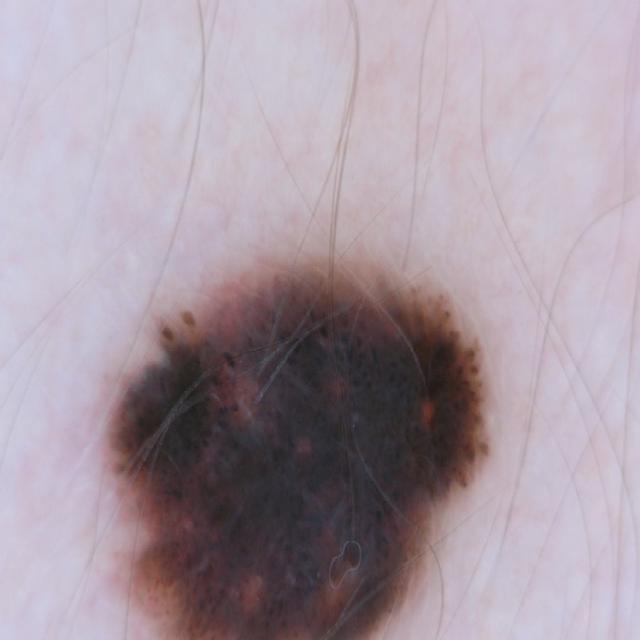Melanoma: (97, 212, 504, 640)
